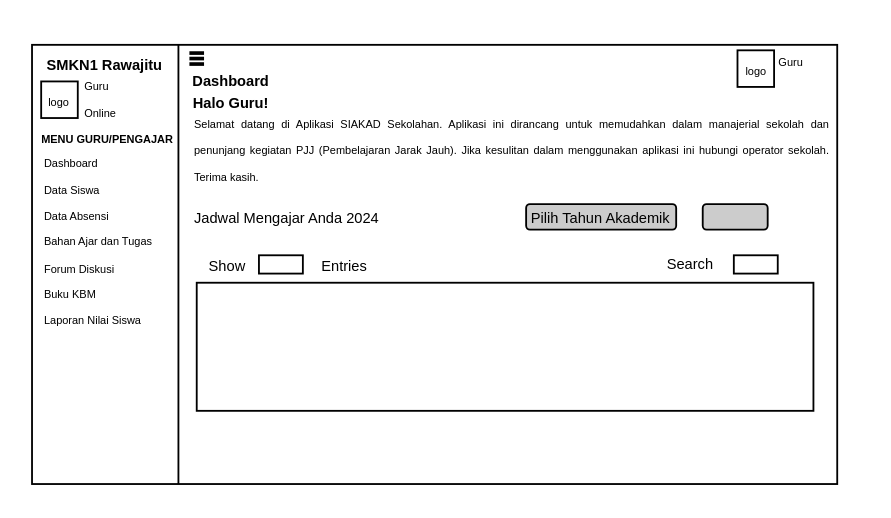
The diagram is 891 pixels wide and 518 high, and some of its shapes have lost their labels. Each missing label, with the centre of its shape:
"Lihat" belongs at (x=734, y=216).
"No. Kode Pelajaran jadwal pelajaran kelas guru hari mulai selsai semester" belongs at (x=504, y=346).
